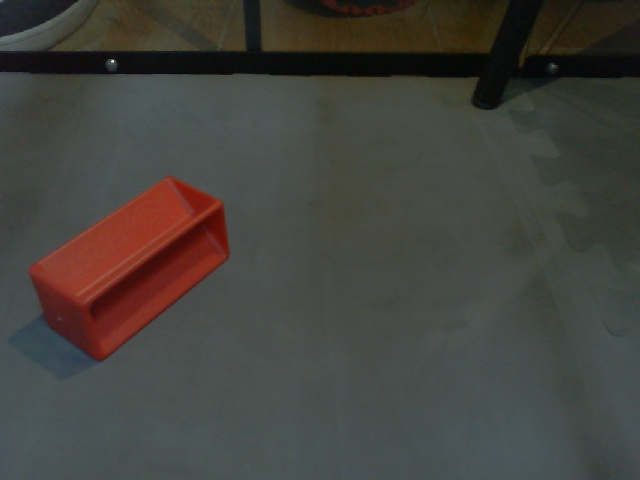RedSample: (26, 173, 231, 365)
